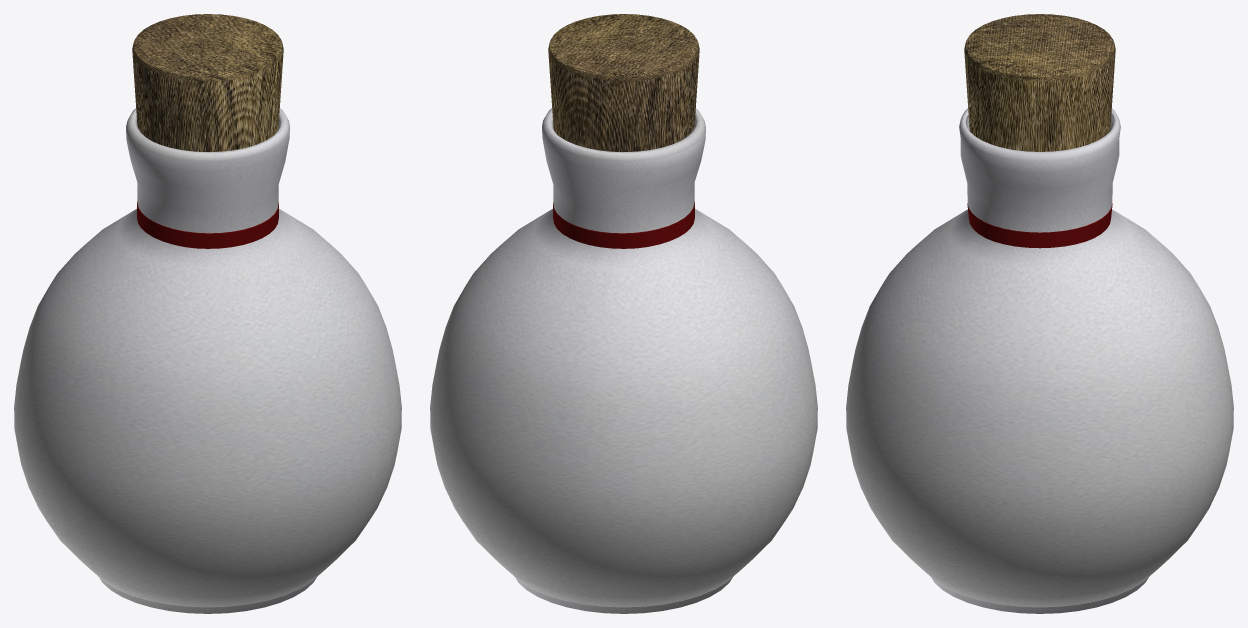
Rendered from Potion of Healing.FBX.
The picture shows the model from 3 angles, left to right: view 1: azimuth 30°, elevation 25°; view 2: azimuth 150°, elevation 25°; view 3: azimuth 270°, elevation 25°; orthographic projection.
Visible parts, largest first — view 1: Potion of Healing; view 2: Potion of Healing; view 3: Potion of Healing.
Part boxes in pixels (x1,y1,x2,y2): Potion of Healing: (14, 14, 401, 613); Potion of Healing: (430, 14, 817, 613); Potion of Healing: (846, 14, 1233, 613).
Bounding box in the file's own units: 335 × 499 × 335.
3 materials, 3 textured.
